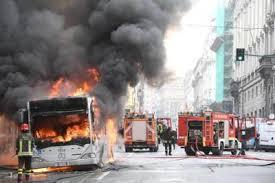fire: (2, 104, 141, 171), (40, 61, 100, 95)
